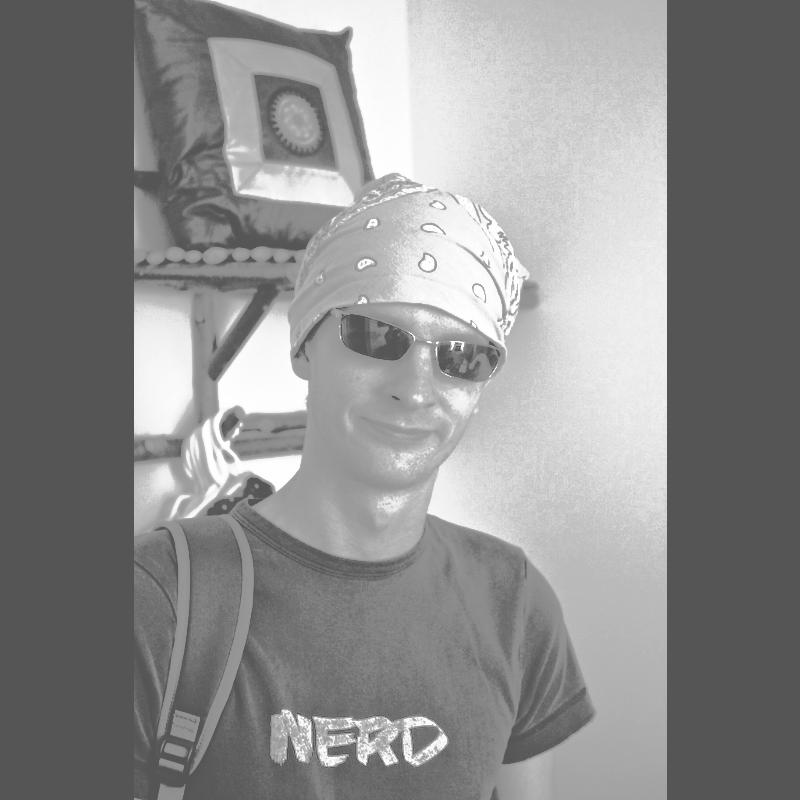pillow: (148, 26, 394, 250)
